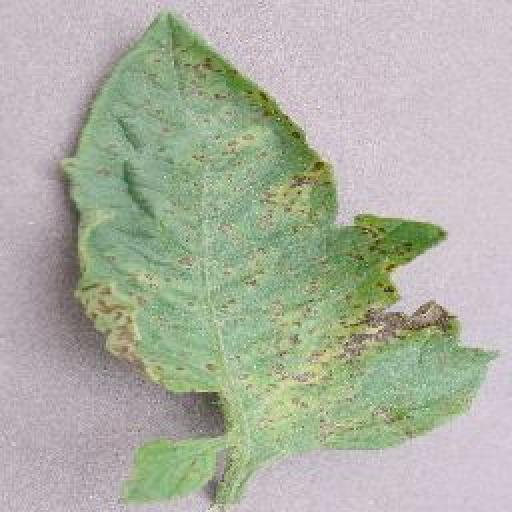disease_tomato: (56, 10, 502, 456)
